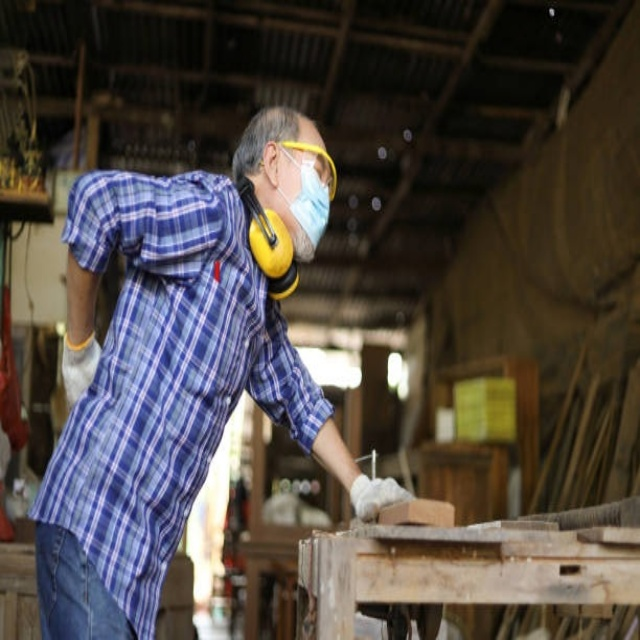Gafas: (264, 133, 341, 202)
Guantes: (60, 331, 102, 411), (350, 473, 413, 523)
Mascara: (277, 149, 330, 255)
